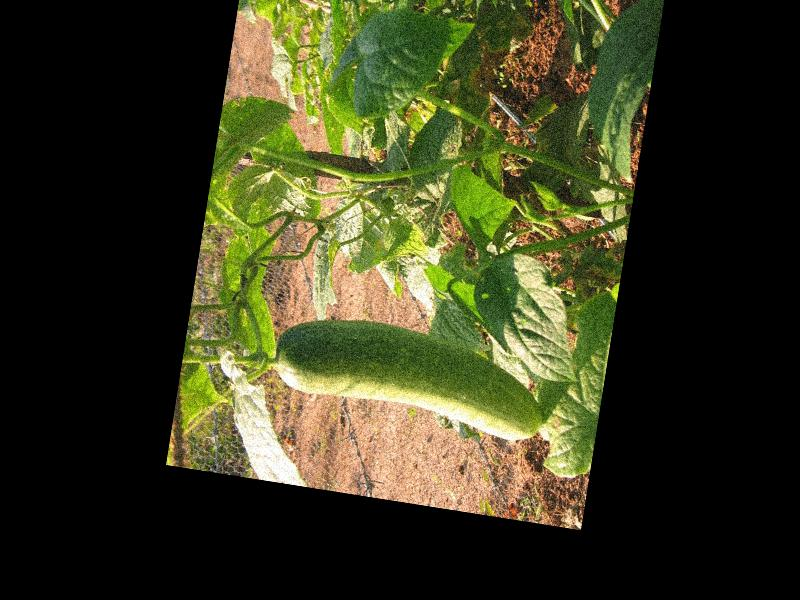Cucumber: (269, 308, 552, 443)
